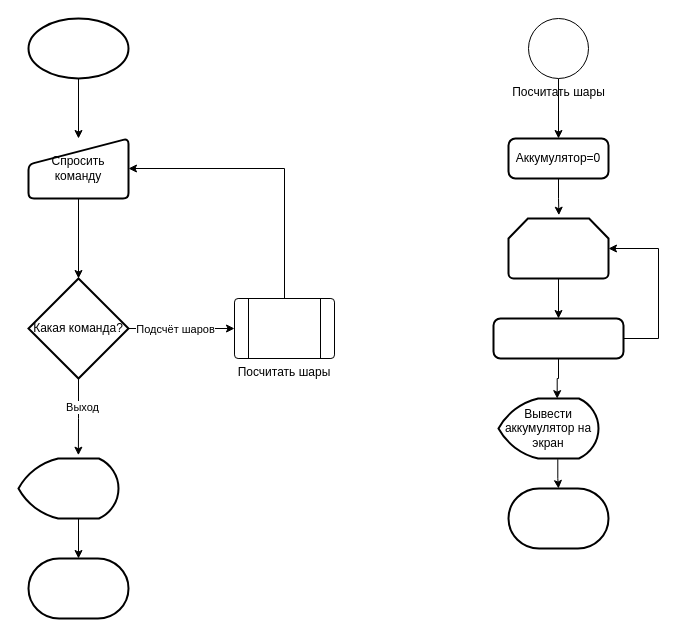
Image size: 684x636. Some labels were removed from this diagram. The centre of each missing label's shape, as x and y in pixels:
Аккумулятор+=Число шаров артикуля: the point at 558,338
Вывести прощание: the point at 68,488
Для каждого артикуля: the point at 558,248
